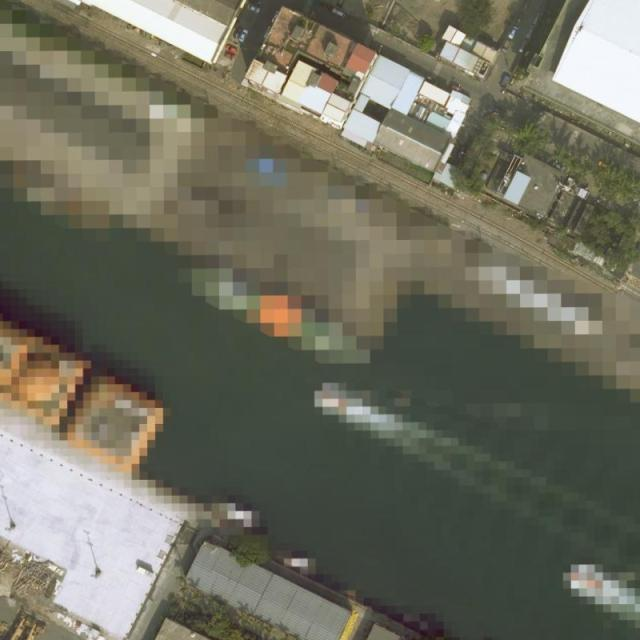vehicle: (331, 7, 348, 20), (508, 25, 519, 42), (237, 28, 249, 43), (246, 3, 261, 15), (233, 25, 244, 40), (248, 1, 266, 10), (223, 51, 237, 62), (526, 23, 536, 38), (226, 43, 238, 55), (531, 13, 542, 26), (515, 10, 526, 23), (518, 40, 528, 54)
